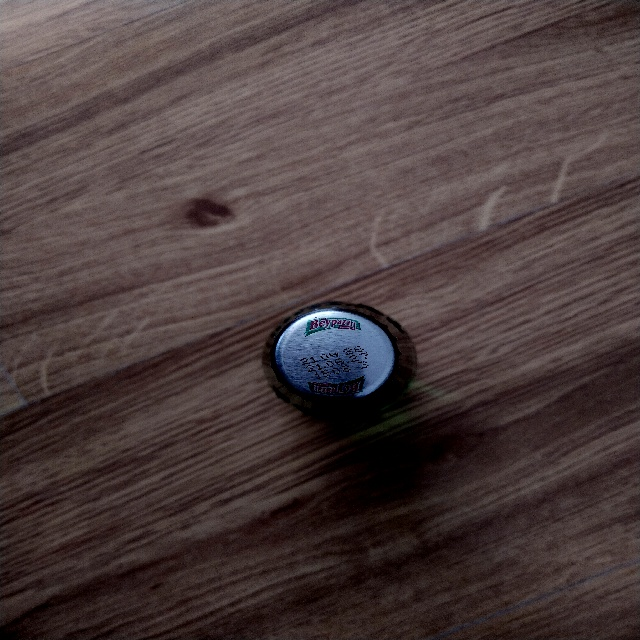beypazari_maden_suyu: (273, 307, 414, 414)
